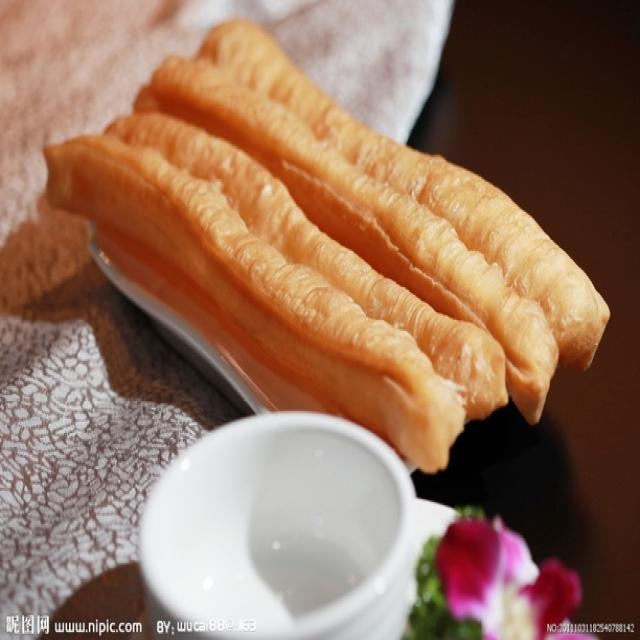炸货点心: (27, 9, 634, 470)
